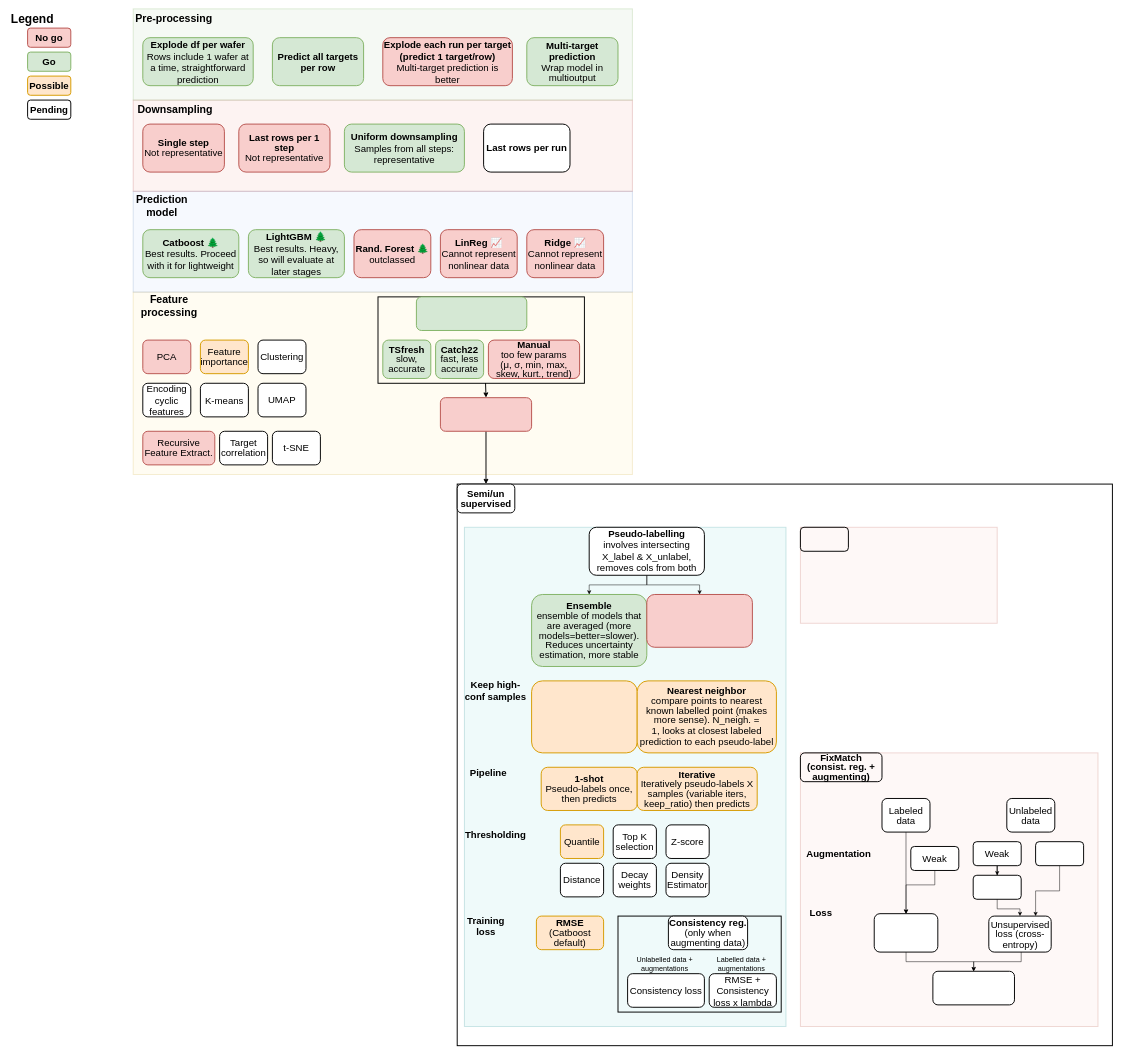
The diagram is 1121 pixels wide and 1054 high, and some of its shapes have lost their labels. Each missing label, with the centre of its shape:
"Drop cols with lots of NaN removes meaning" belongs at pixel 486 414.
"Mean Teacher" belongs at pixel 824 539.
"Normal faster, less valid" belongs at pixel 699 621.
"Pseudo-label" belongs at pixel 996 887.
"Strong" belongs at pixel 1059 853.
"Supervised loss (cross-entropy)" belongs at pixel 906 932.
"Time Series summarizing removes time component" belongs at pixel 471 313.
"Total loss SL + UL x lambda" belongs at pixel 973 988.
"Variance only looks at model disagreement, misleading if all models are wrong" belongs at pixel 584 716.
